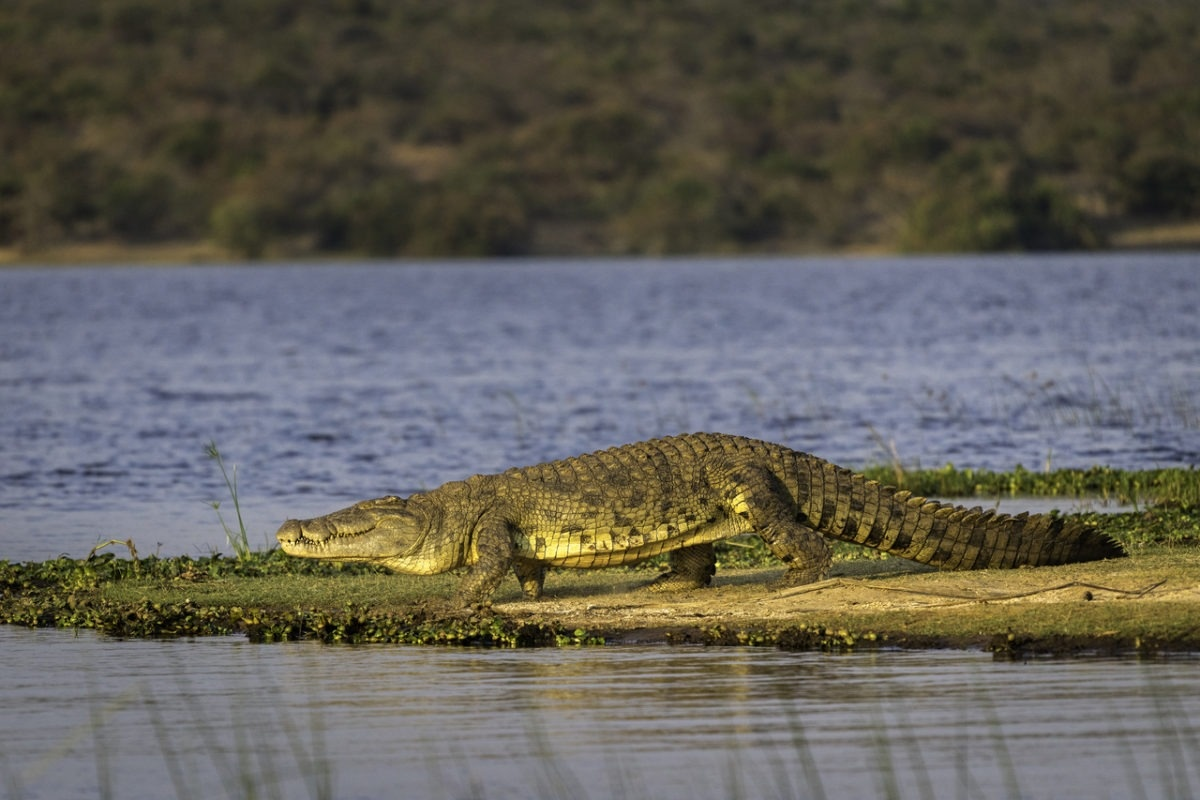crocodile: (268, 426, 1141, 621)
